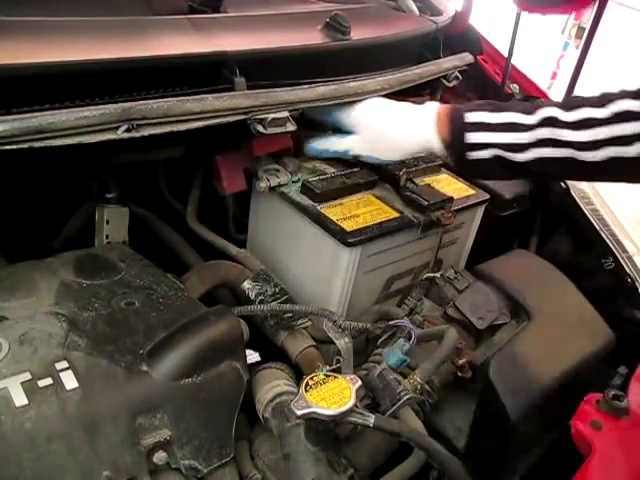battery: (213, 131, 486, 244)
pos_connected: (238, 137, 309, 201)
